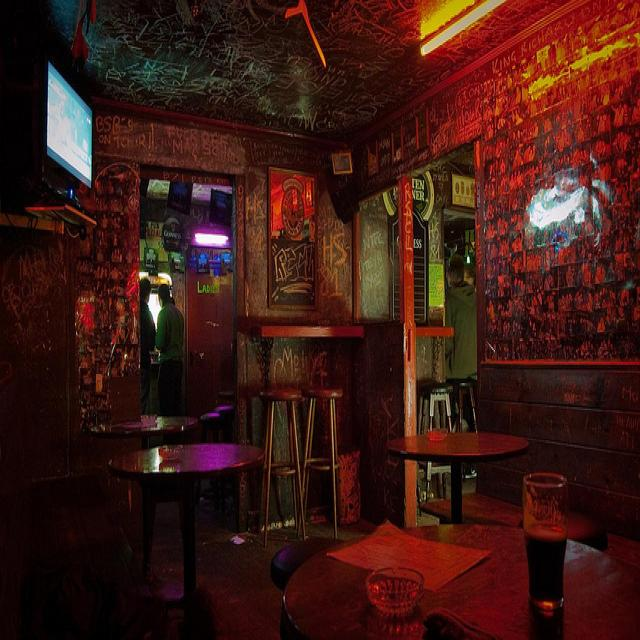Cup: (514, 433, 581, 634)
Table: (276, 484, 611, 640), (118, 437, 268, 598), (377, 407, 530, 528), (258, 284, 368, 388)
chair: (257, 357, 309, 546), (305, 367, 353, 525), (448, 347, 487, 493), (418, 366, 451, 509)
